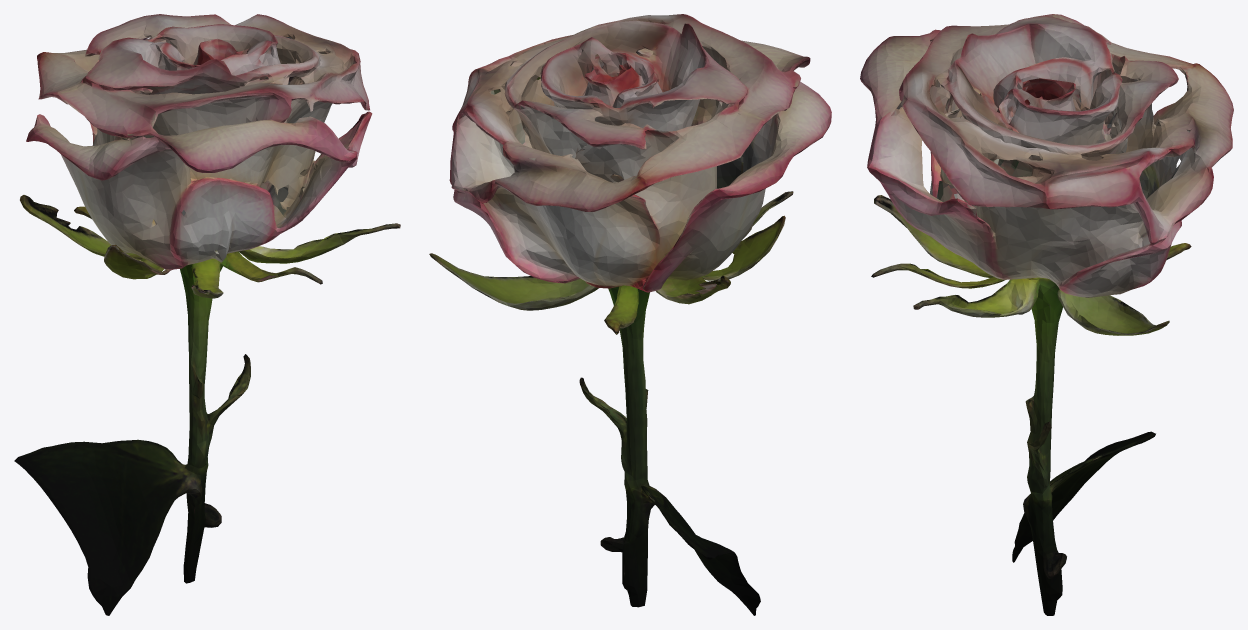
3 renders of one model, left to right at view 1: azimuth 30°, elevation 25°; view 2: azimuth 150°, elevation 25°; view 3: azimuth 270°, elevation 25°, orthographic. The views are drawn at different scales.
Visible parts, largest first — view 1: world; view 2: world; view 3: world.
Part boxes in pixels (<box>): world: <box>14,14,400,615</box>; world: <box>429,14,831,615</box>; world: <box>860,14,1233,615</box>.
Size of the model in its own units: 0.6096 by 0.998 by 0.5904.
1 material, 1 textured.
